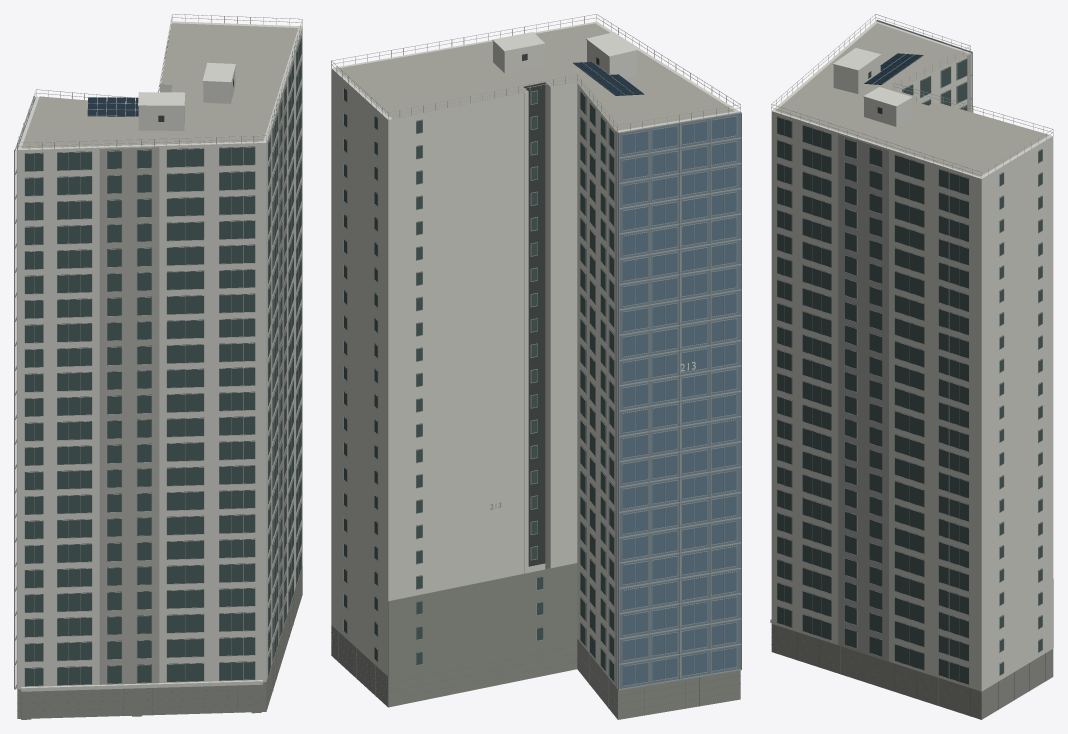
File: bespoke-maple-xi-213-corrected.glb
3 views of the same model, side by side, from view 1: azimuth 30°, elevation 25°; view 2: azimuth 150°, elevation 25°; view 3: azimuth 270°, elevation 25° (orthographic). The views are drawn at different scales.
Parts seen in each view (by area): view 1: e5_glass, 213_individual_L_body_with_core_recess, e5_pale_warm_infill, 213_exposed_roof_surface, e5_window_frames, e4_glass, e4_window_frames, 213_obscured_ground_storey_conservative_mass, e4_recesses, e5_recesses, e4_pale_warm_infill, 213_low_perimeter_rails (+11 smaller); view 2: 213_individual_L_body_with_core_recess, e0_glass, 213_NW_bluegray_numbered_end, 213_exposed_roof_surface, 213_core_lower_stone_sleeve, 213_obscured_ground_storey_conservative_mass, e0_window_frames, e1_glass, 213_observed_core_vertical_shadow_slot, 213_NW_horizontal_spandrel_frames, 213_core_slot_flanking_pale_jambs, e1_window_frames (+15 smaller); view 3: 213_individual_L_body_with_core_recess, e4_glass, e4_pale_warm_infill, 213_exposed_roof_surface, e4_window_frames, 213_obscured_ground_storey_conservative_mass, e4_recesses, e3_glass, e3_window_frames, 213_low_perimeter_rails, 213_roof_service_0, 213_roof_service_1 (+6 smaller).
Part boxes in pixels (x1,y1,x2,y2): e5_glass: [25, 147, 254, 686]; 213_individual_L_body_with_core_recess: [17, 21, 302, 689]; e5_pale_warm_infill: [99, 147, 159, 684]; 213_exposed_roof_surface: [21, 23, 298, 148]; e5_window_frames: [24, 147, 255, 686]; e4_glass: [268, 38, 301, 674]; e4_window_frames: [268, 36, 301, 675]; 213_obscured_ground_storey_conservative_mass: [17, 566, 302, 718]; e4_recesses: [268, 36, 301, 675]; e5_recesses: [24, 146, 254, 668]; e4_pale_warm_infill: [278, 79, 286, 644]; 213_low_perimeter_rails: [17, 14, 302, 146]; 213_individual_L_body_with_core_recess: [331, 21, 740, 688]; e0_glass: [623, 116, 736, 685]; 213_NW_bluegray_numbered_end: [618, 112, 740, 689]; 213_exposed_roof_surface: [338, 23, 734, 130]; 213_core_lower_stone_sleeve: [388, 563, 577, 676]; 213_obscured_ground_storey_conservative_mass: [331, 625, 740, 719]; e0_window_frames: [622, 116, 737, 686]; e1_glass: [580, 91, 613, 681]; 213_observed_core_vertical_shadow_slot: [523, 82, 545, 566]; 213_NW_horizontal_spandrel_frames: [618, 112, 741, 690]; 213_core_slot_flanking_pale_jambs: [524, 86, 555, 573]; e1_window_frames: [580, 90, 614, 683]; 213_individual_L_body_with_core_recess: [771, 21, 1053, 691]; e4_glass: [777, 117, 968, 684]; e4_pale_warm_infill: [838, 134, 888, 661]; 213_exposed_roof_surface: [776, 23, 1048, 176]; e4_window_frames: [777, 116, 969, 685]; 213_obscured_ground_storey_conservative_mass: [771, 624, 1053, 719]; e4_recesses: [777, 116, 969, 670]; e3_glass: [1000, 150, 1042, 675]; e3_window_frames: [999, 149, 1042, 675]; 213_low_perimeter_rails: [771, 14, 1053, 175]; 213_roof_service_0: [833, 56, 880, 93]; 213_roof_service_1: [864, 97, 911, 126].
Size of the model in its own units: 47.03 by 77.84 by 35.34.
